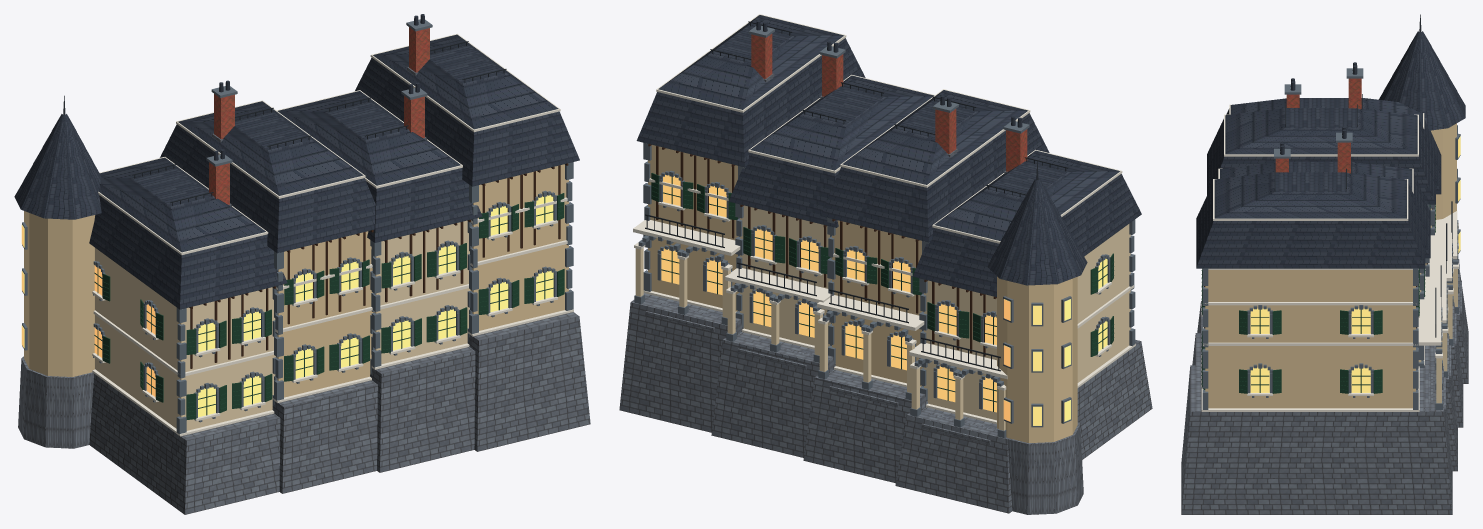
The model's file is fv_hb_01_khu_hoa_binh_central_arcade_shophouses.glb.
3 views of the same model, side by side, from view 1: azimuth 30°, elevation 25°; view 2: azimuth 150°, elevation 25°; view 3: azimuth 270°, elevation 25° (orthographic). The views are drawn at different scales.
Parts seen in each view (by area): view 1: Stepped_Normandy_Brittany_Roof, Foundation_Skirt_Neg3p5m, Shophouse_Stucco_Accent, Shophouse_Stucco_Primary, Stone_Quoins_And_Arches, PineGreen_Louvered_Shutters, Molded_Cornices_And_Sills, Warm_Night_Windows_20h00_Blend, Exposed_Timber_Trusses_And_Rafters, Brick_Chimney_Stacks, Villa_Interior_Backing, Wrought_Iron_Balustrades_And_Lamps; view 2: Stepped_Normandy_Brittany_Roof, Foundation_Skirt_Neg3p5m, Shophouse_Stucco_Accent, Shophouse_Stucco_Primary, Molded_Cornices_And_Sills, Stone_Quoins_And_Arches, Warm_Night_Windows_20h00_Blend, PineGreen_Louvered_Shutters, Brick_Chimney_Stacks, Exposed_Timber_Trusses_And_Rafters, Wrought_Iron_Balustrades_And_Lamps, Villa_Interior_Backing; view 3: Stepped_Normandy_Brittany_Roof, Foundation_Skirt_Neg3p5m, Shophouse_Stucco_Accent, Molded_Cornices_And_Sills, Stone_Quoins_And_Arches, PineGreen_Louvered_Shutters, Warm_Night_Windows_20h00_Blend, Brick_Chimney_Stacks, Shophouse_Stucco_Primary, Wrought_Iron_Balustrades_And_Lamps.
Boxes of the visible parts, x1,y1,x2,y2 form: Stepped_Normandy_Brittany_Roof: (14,14,579,309); Foundation_Skirt_Neg3p5m: (18,67,590,514); Shophouse_Stucco_Accent: (24,164,568,397); Shophouse_Stucco_Primary: (95,220,470,430); Stone_Quoins_And_Arches: (22,19,573,433); PineGreen_Louvered_Shutters: (94,193,564,419); Molded_Cornices_And_Sills: (92,33,573,436); Warm_Night_Windows_20h00_Blend: (21,195,553,417); Exposed_Timber_Trusses_And_Rafters: (189,163,568,368); Brick_Chimney_Stacks: (209,27,429,204); Villa_Interior_Backing: (23,196,551,415); Wrought_Iron_Balustrades_And_Lamps: (132,41,506,205); Stepped_Normandy_Brittany_Roof: (636,15,1141,297); Foundation_Skirt_Neg3p5m: (619,73,1152,514); Shophouse_Stucco_Accent: (648,145,1077,443); Shophouse_Stucco_Primary: (635,205,1130,430); Molded_Cornices_And_Sills: (633,14,1135,424); Stone_Quoins_And_Arches: (634,25,1135,438); Warm_Night_Windows_20h00_Blend: (661,174,1107,425); PineGreen_Louvered_Shutters: (651,173,1114,411); Brick_Chimney_Stacks: (751,34,1027,171); Exposed_Timber_Trusses_And_Rafters: (648,144,996,356); Wrought_Iron_Balustrades_And_Lamps: (645,21,1067,371); Villa_Interior_Backing: (662,176,1106,421); Stepped_Normandy_Brittany_Roof: (1196,31,1465,268); Foundation_Skirt_Neg3p5m: (1181,259,1468,514); Shophouse_Stucco_Accent: (1205,123,1456,408); Molded_Cornices_And_Sills: (1201,104,1458,411); Stone_Quoins_And_Arches: (1202,68,1460,409); PineGreen_Louvered_Shutters: (1201,204,1435,393); Warm_Night_Windows_20h00_Blend: (1250,136,1460,392); Brick_Chimney_Stacks: (1275,78,1361,173); Shophouse_Stucco_Primary: (1418,208,1457,403); Wrought_Iron_Balustrades_And_Lamps: (1274,94,1452,337).
Bounding box in the file's own units: 27.2 × 21.46 × 16.1.
13 materials, 3 textured.
